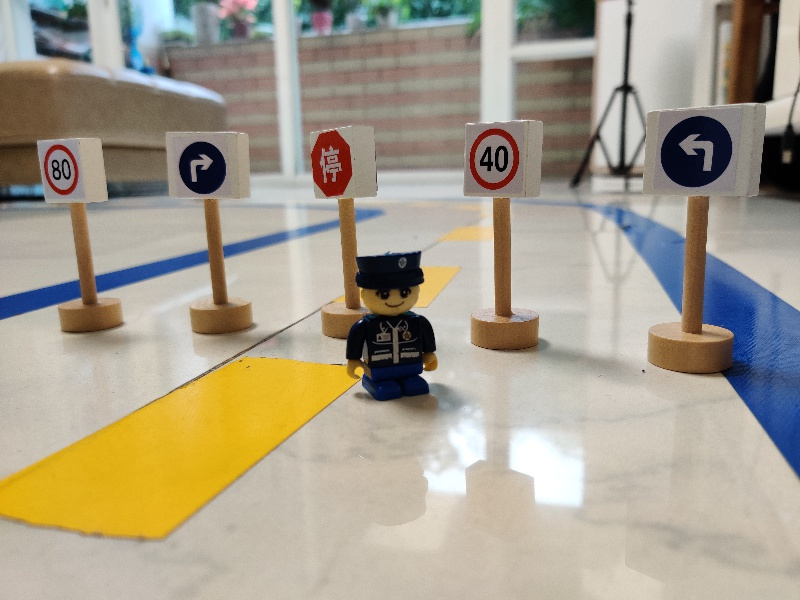limit_40: (462, 118, 542, 198)
limit_80: (34, 137, 108, 204)
person: (342, 247, 442, 402)
stop: (306, 127, 378, 199)
turn_left: (645, 101, 766, 200)
turn_right: (161, 129, 252, 201)
